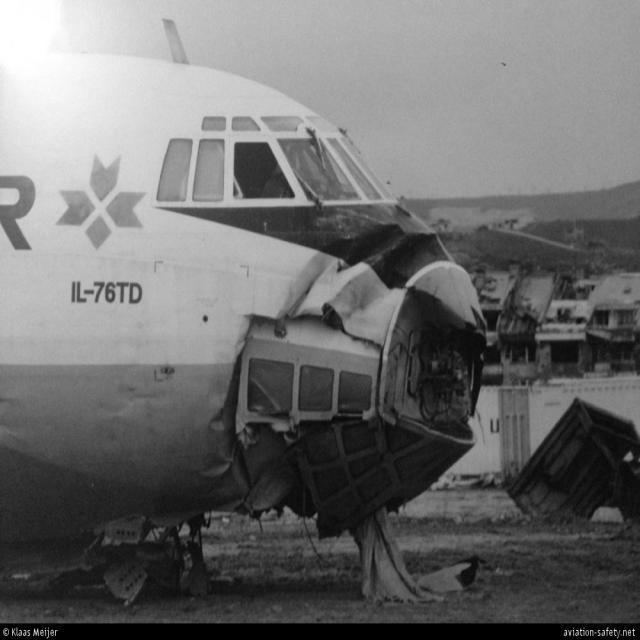dent: (192, 409, 236, 482)
